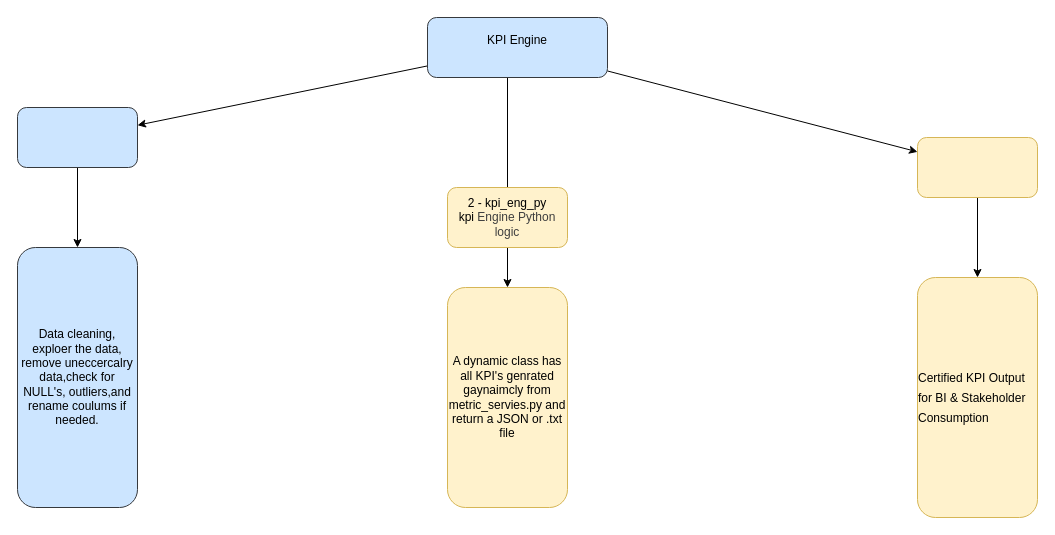
Some shapes in this 1055 by 535 pixel diagram are drawn without their labels. Each missing label, with the centre of its shape:
"1- Data profiling & Descriptive analysis" belongs at point 77,137.
"3 - KPI Engine (SQL - Certifed metrics)" belongs at point 977,167.
